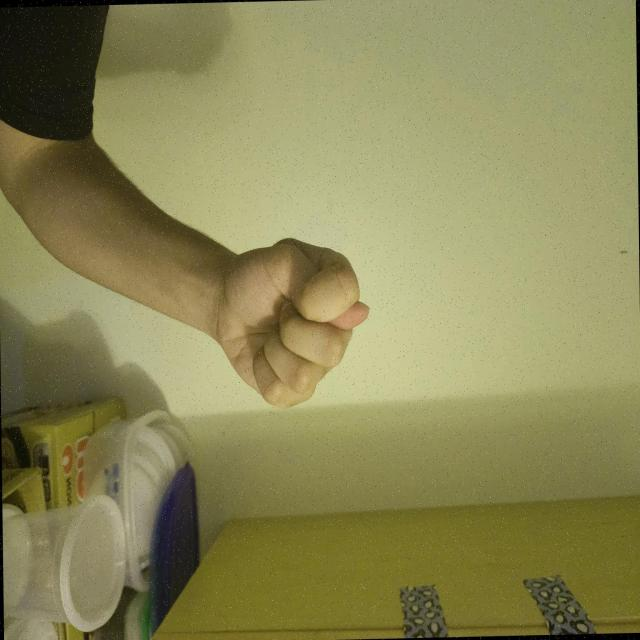T: (331, 349, 473, 574)
